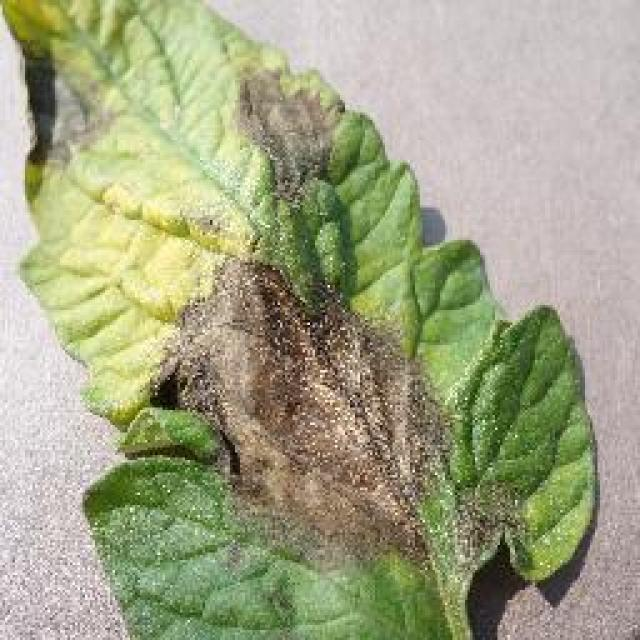Tomato Late Blight: (185, 45, 530, 587)
